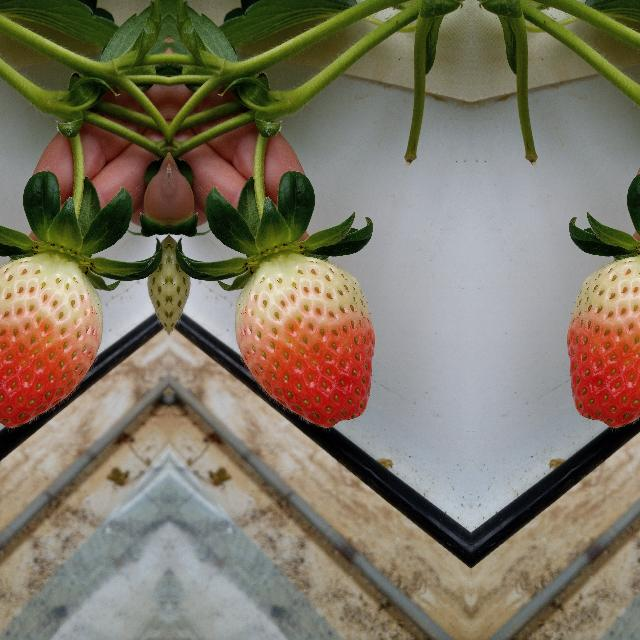Health_75: (234, 252, 376, 432), (0, 252, 101, 432), (565, 252, 640, 432)
